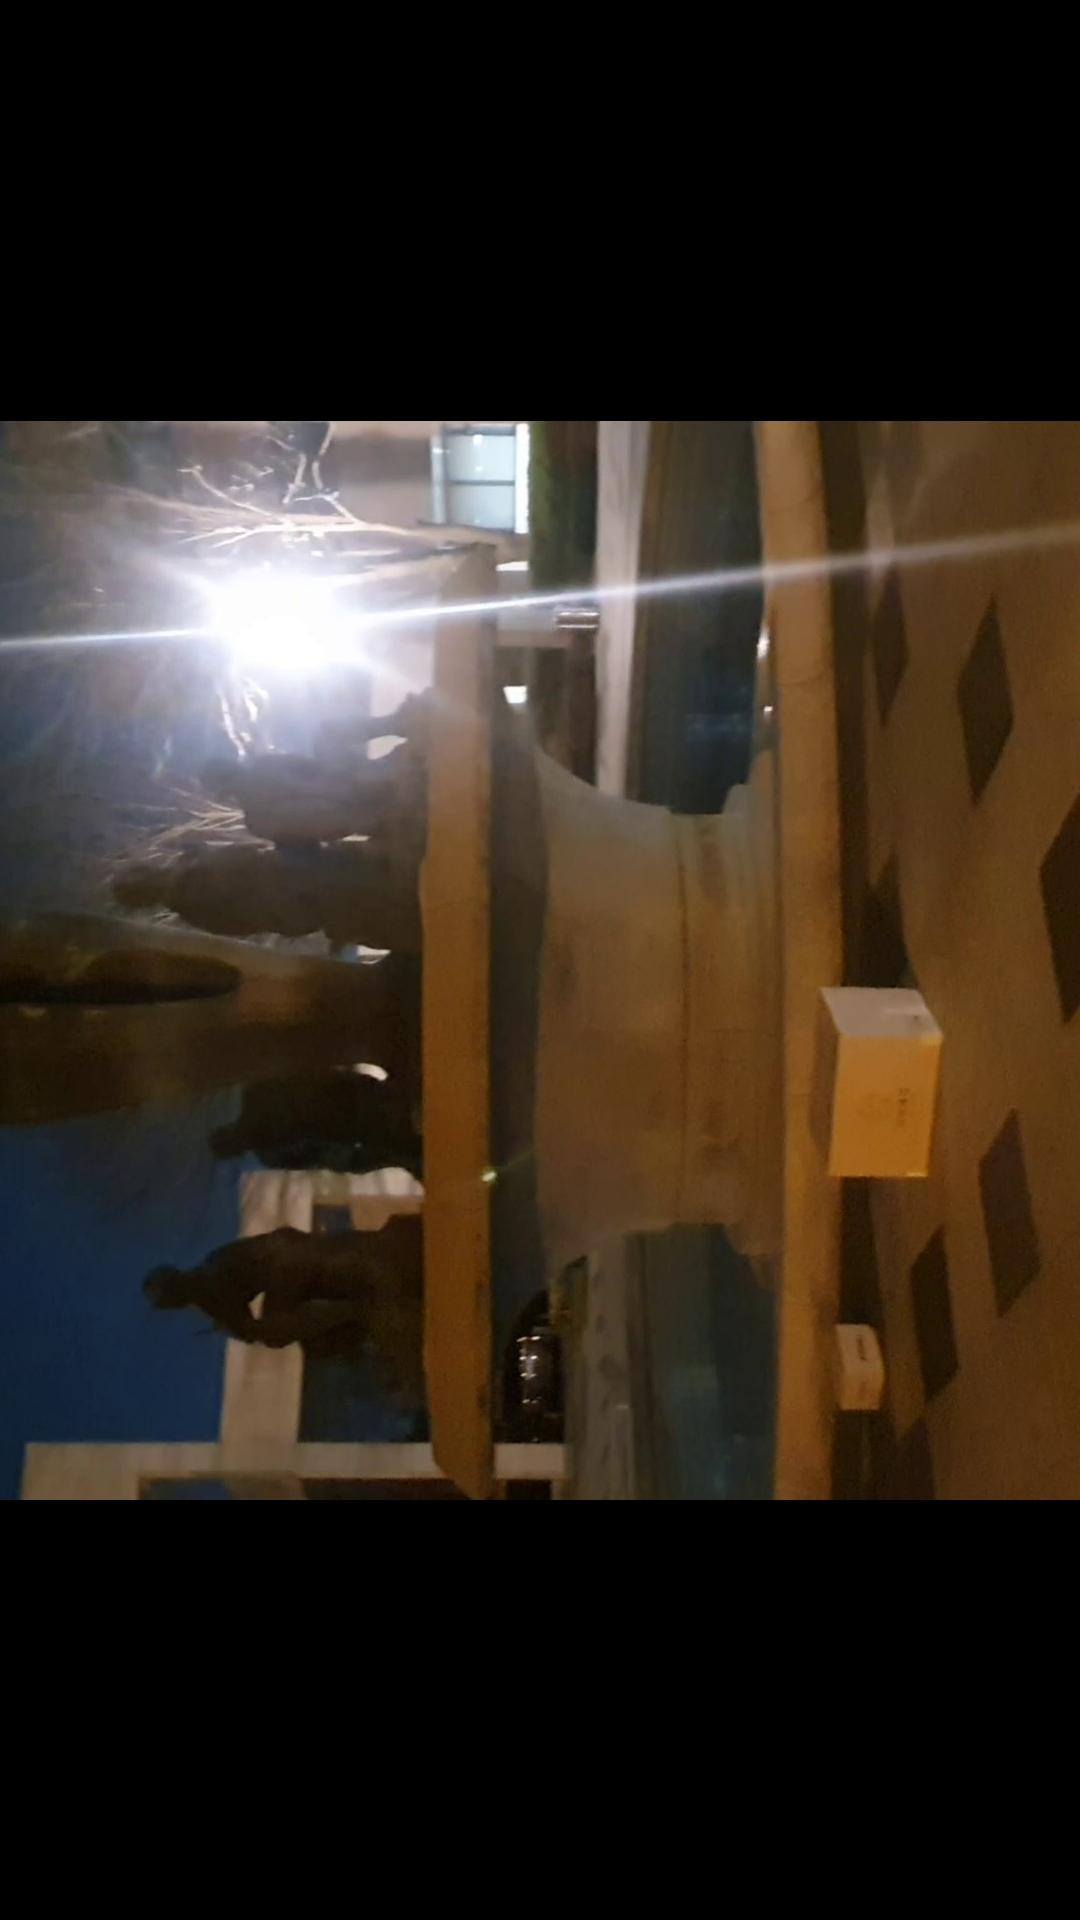Box: (808, 967, 945, 1199), (818, 1323, 890, 1422)
